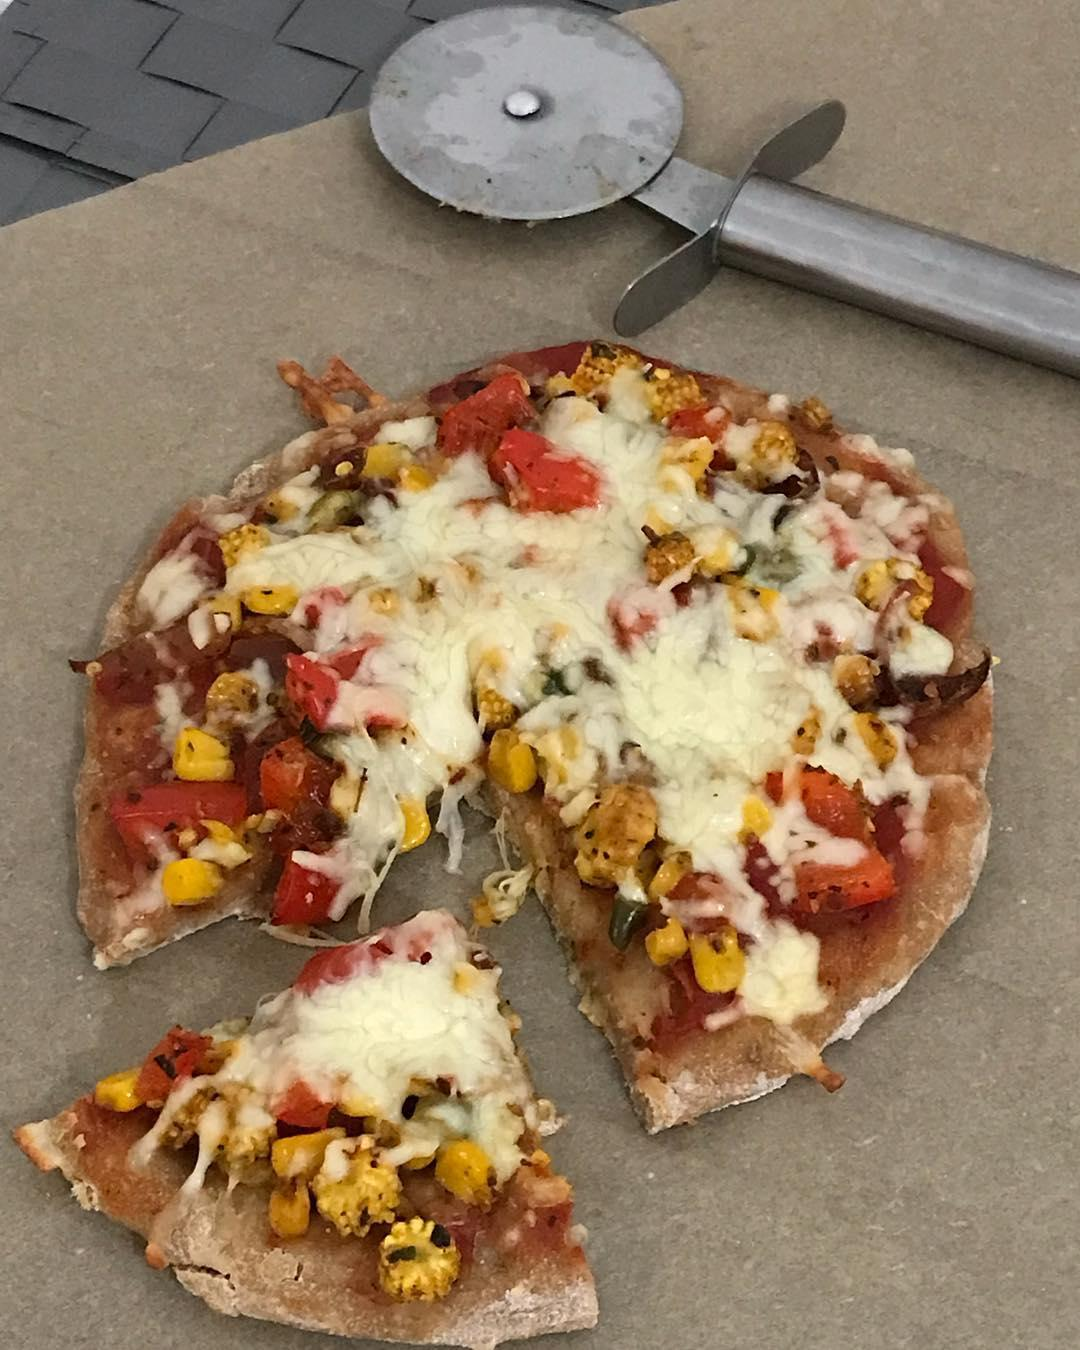Cheese: (368, 505, 614, 695), (635, 638, 787, 797), (303, 974, 487, 1077)
Corn: (248, 1124, 480, 1295), (488, 727, 660, 868), (622, 385, 796, 488), (154, 714, 236, 886), (648, 518, 778, 615), (635, 908, 752, 991), (218, 518, 307, 613)
Pizza: (14, 352, 1009, 1341)
Tomatoes: (730, 757, 915, 915), (434, 375, 585, 515), (235, 631, 336, 838), (263, 864, 342, 941)
